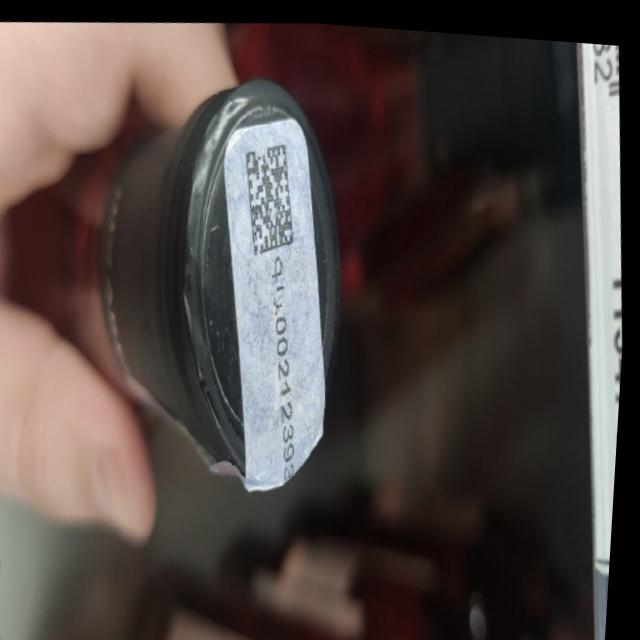datamatrix: (239, 130, 305, 258)
